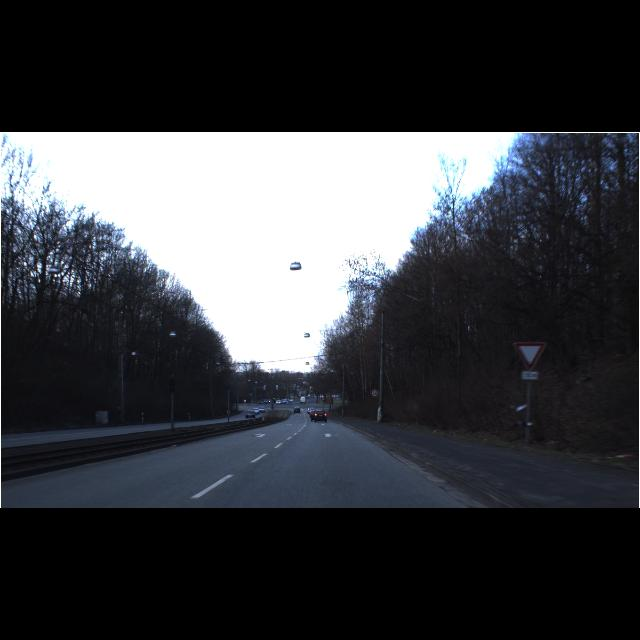other: (514, 341, 546, 371)
prohibitory: (370, 388, 380, 398)
